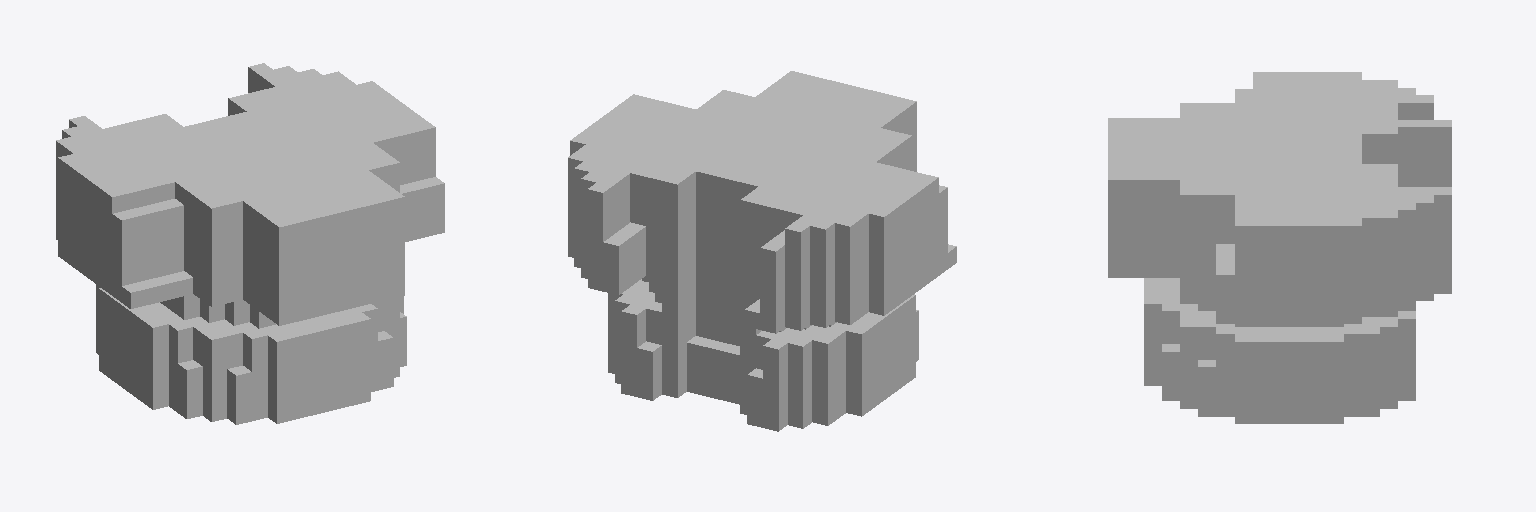
File: alchemizer altar.obj
The picture shows the model from 3 angles: view 1: azimuth 30°, elevation 25°; view 2: azimuth 150°, elevation 25°; view 3: azimuth 270°, elevation 25°; orthographic projection.
Parts seen in each view (by area): view 1: object 1; view 2: object 1; view 3: object 1.
Boxes of the visible parts, x1=… form: object 1: x1=56, y1=63, x2=444, y2=424; object 1: x1=568, y1=71, x2=956, y2=431; object 1: x1=1108, y1=72, x2=1451, y2=423.
Bounding box in the file's own units: 2 × 1.3 × 1.9.